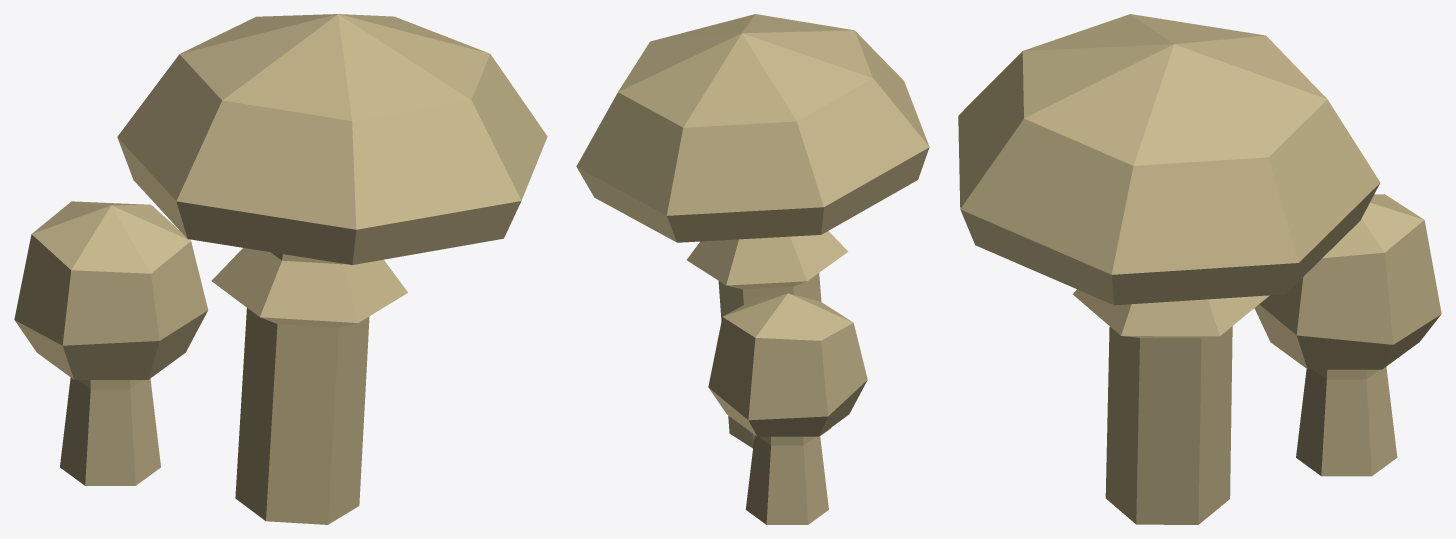
Rendered from mushroom-red.fbx.
3 views of the same model, side by side, from view 1: azimuth 30°, elevation 25°; view 2: azimuth 150°, elevation 25°; view 3: azimuth 270°, elevation 25° (orthographic). The views are drawn at different scales.
Parts seen in each view (by area): view 1: mushroom-red; view 2: mushroom-red; view 3: mushroom-red.
Part boxes in pixels (x1,y1,x2,y2): mushroom-red: (14,14,547,524); mushroom-red: (576,14,929,524); mushroom-red: (958,14,1441,524).
Bounding box in the file's own units: 0.536 × 0.6285 × 0.5706.
